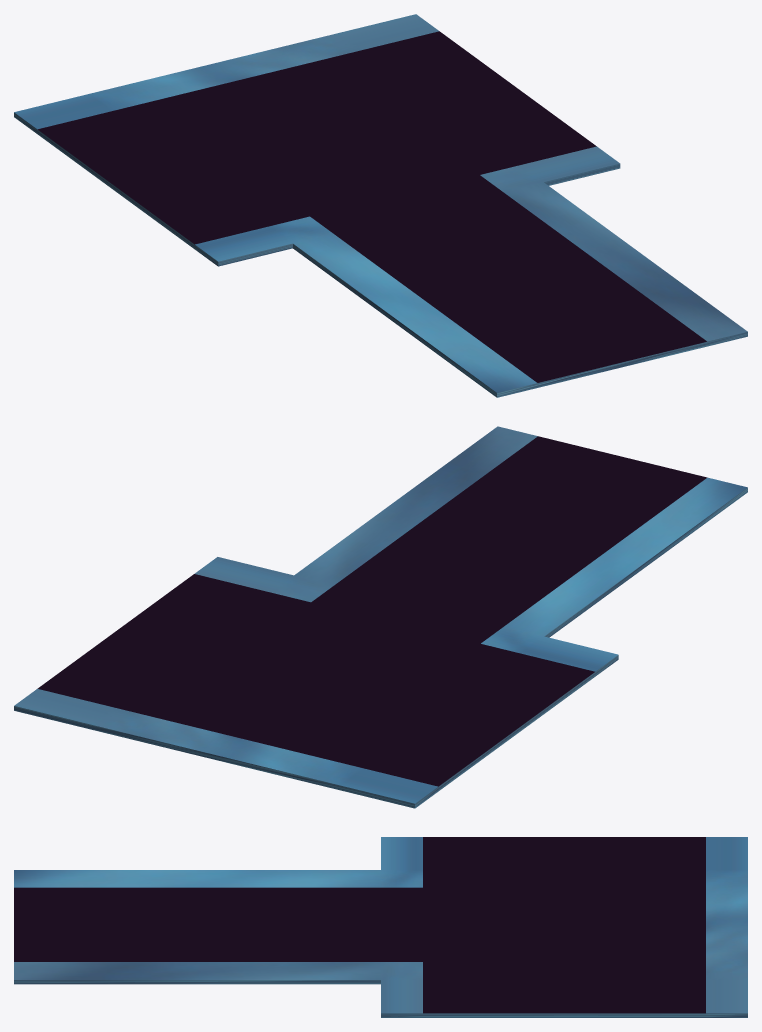
File: RouteBothBas.dae
3 views of the same model, one above another, from view 1: azimuth 30°, elevation 25°; view 2: azimuth 150°, elevation 25°; view 3: azimuth 270°, elevation 25° (orthographic). The views are drawn at different scales.
Parts seen in each view (by area): view 1: Cube; view 2: Cube; view 3: Cube.
Boxes of the visible parts, box(x1,y1,x2,y2) form: Cube: box(14, 14, 747, 397); Cube: box(14, 426, 747, 808); Cube: box(14, 837, 747, 1017).
Bounding box in the file's own units: 2.03 × 3.57 × 0.0237.
Materials: 2 (1 with a texture image).
